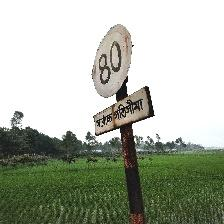Speed-limit: (91, 21, 153, 136)
